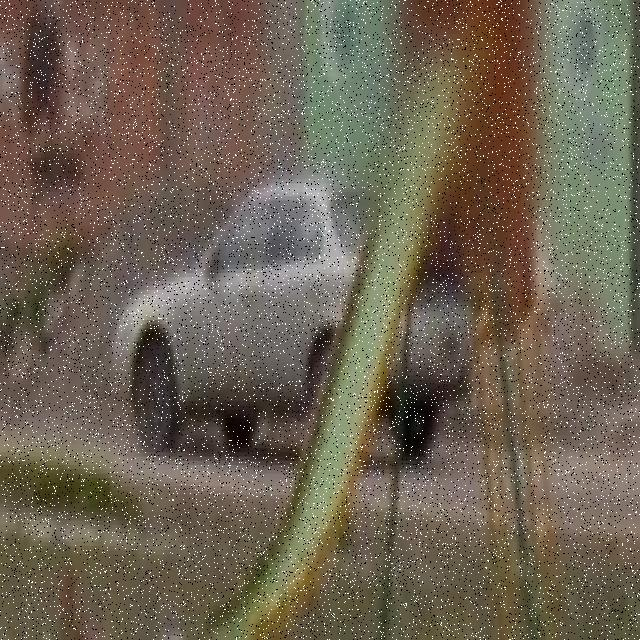cars: (129, 172, 474, 466)
